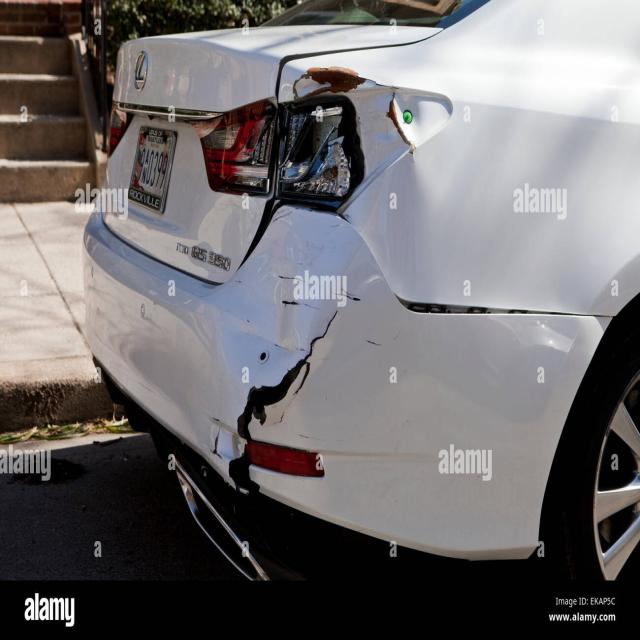crush: (193, 42, 547, 518)
